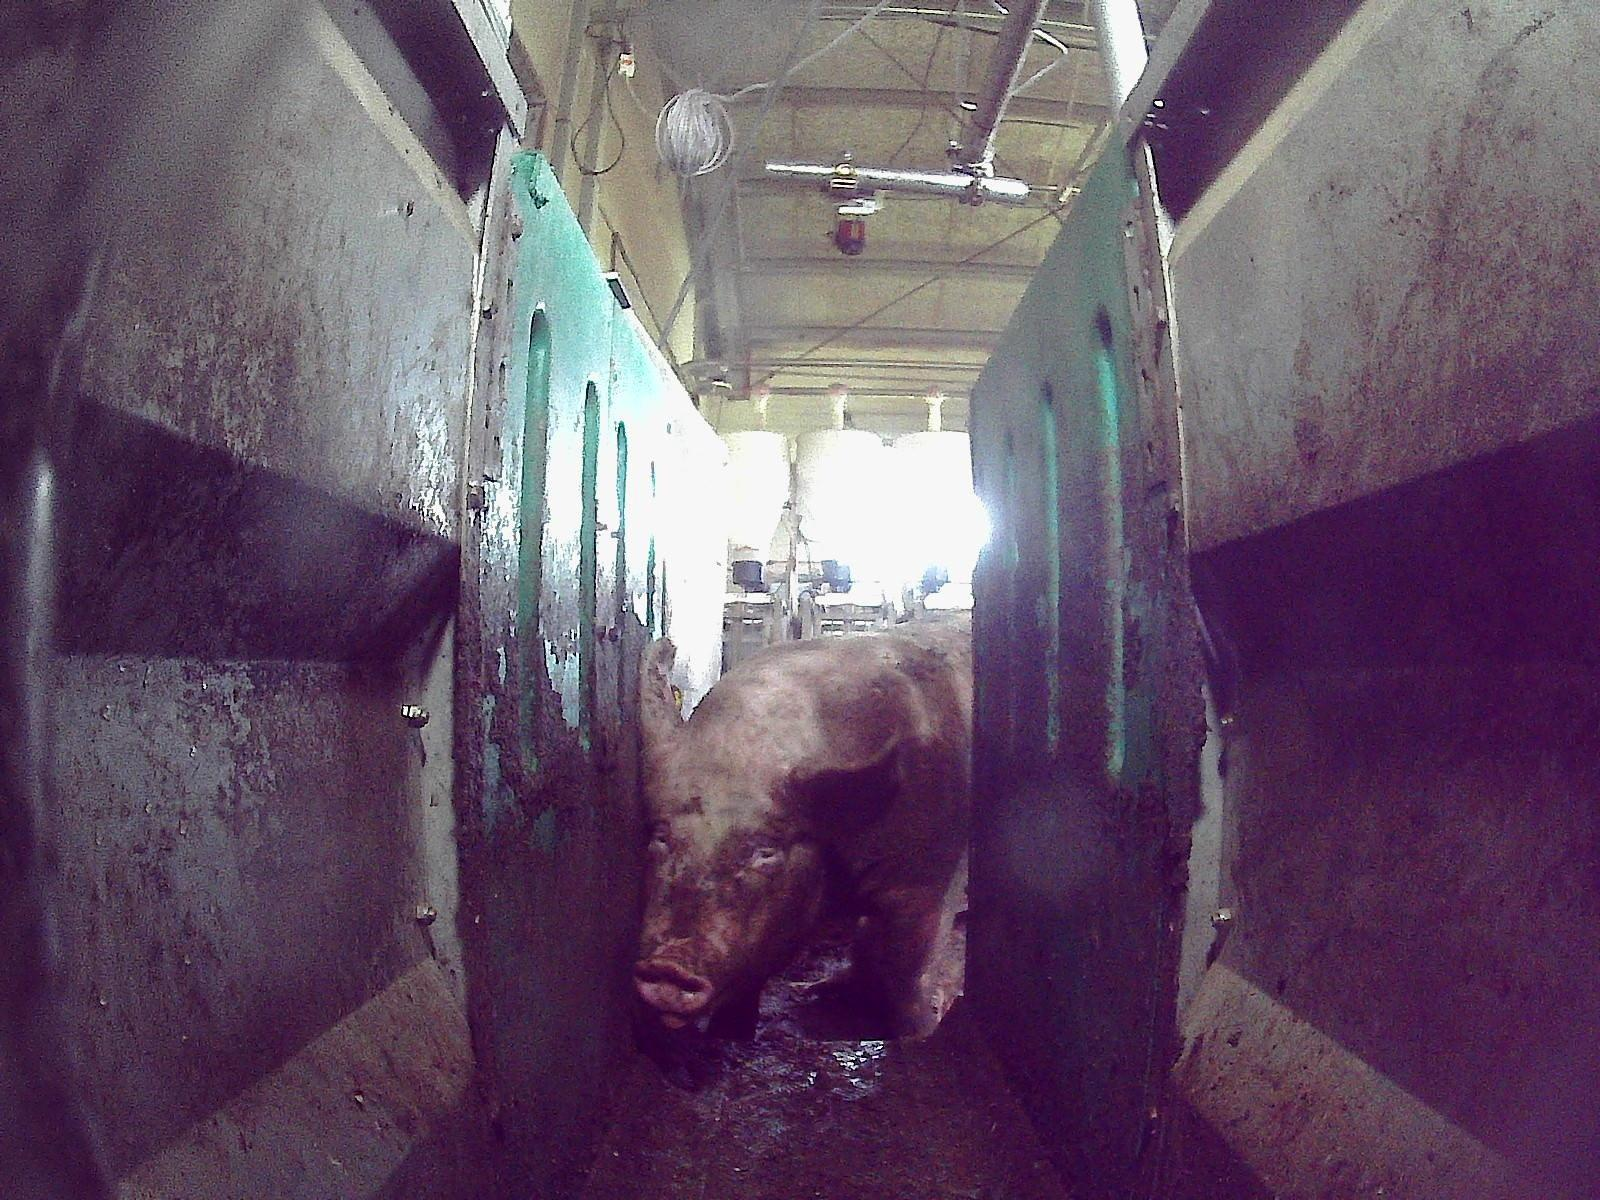Face: (632, 739, 826, 1025)
